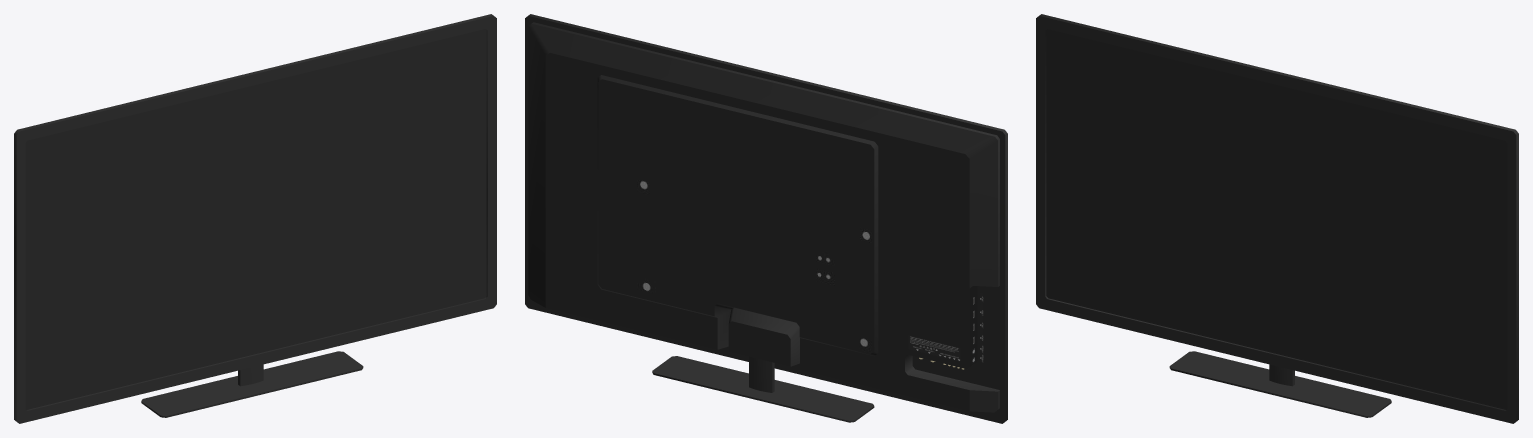
3 renders of one model, left to right at view 1: azimuth 30°, elevation 25°; view 2: azimuth 150°, elevation 25°; view 3: azimuth 330°, elevation 25°, orthographic.
Parts seen in each view (by area): view 1: TV_w; view 2: TV_w; view 3: TV_w.
Part boxes in pixels (x1=…): TV_w: x1=14, y1=14, x2=496, y2=423; TV_w: x1=525, y1=14, x2=1007, y2=423; TV_w: x1=1036, y1=14, x2=1518, y2=423.
Bounding box in the file's own units: 1.08 × 0.68 × 0.0911.
1 material, 1 textured.
